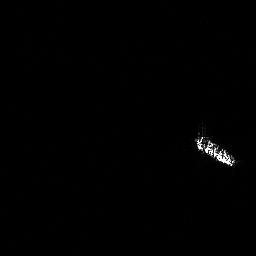ship: (191, 130, 241, 171)
